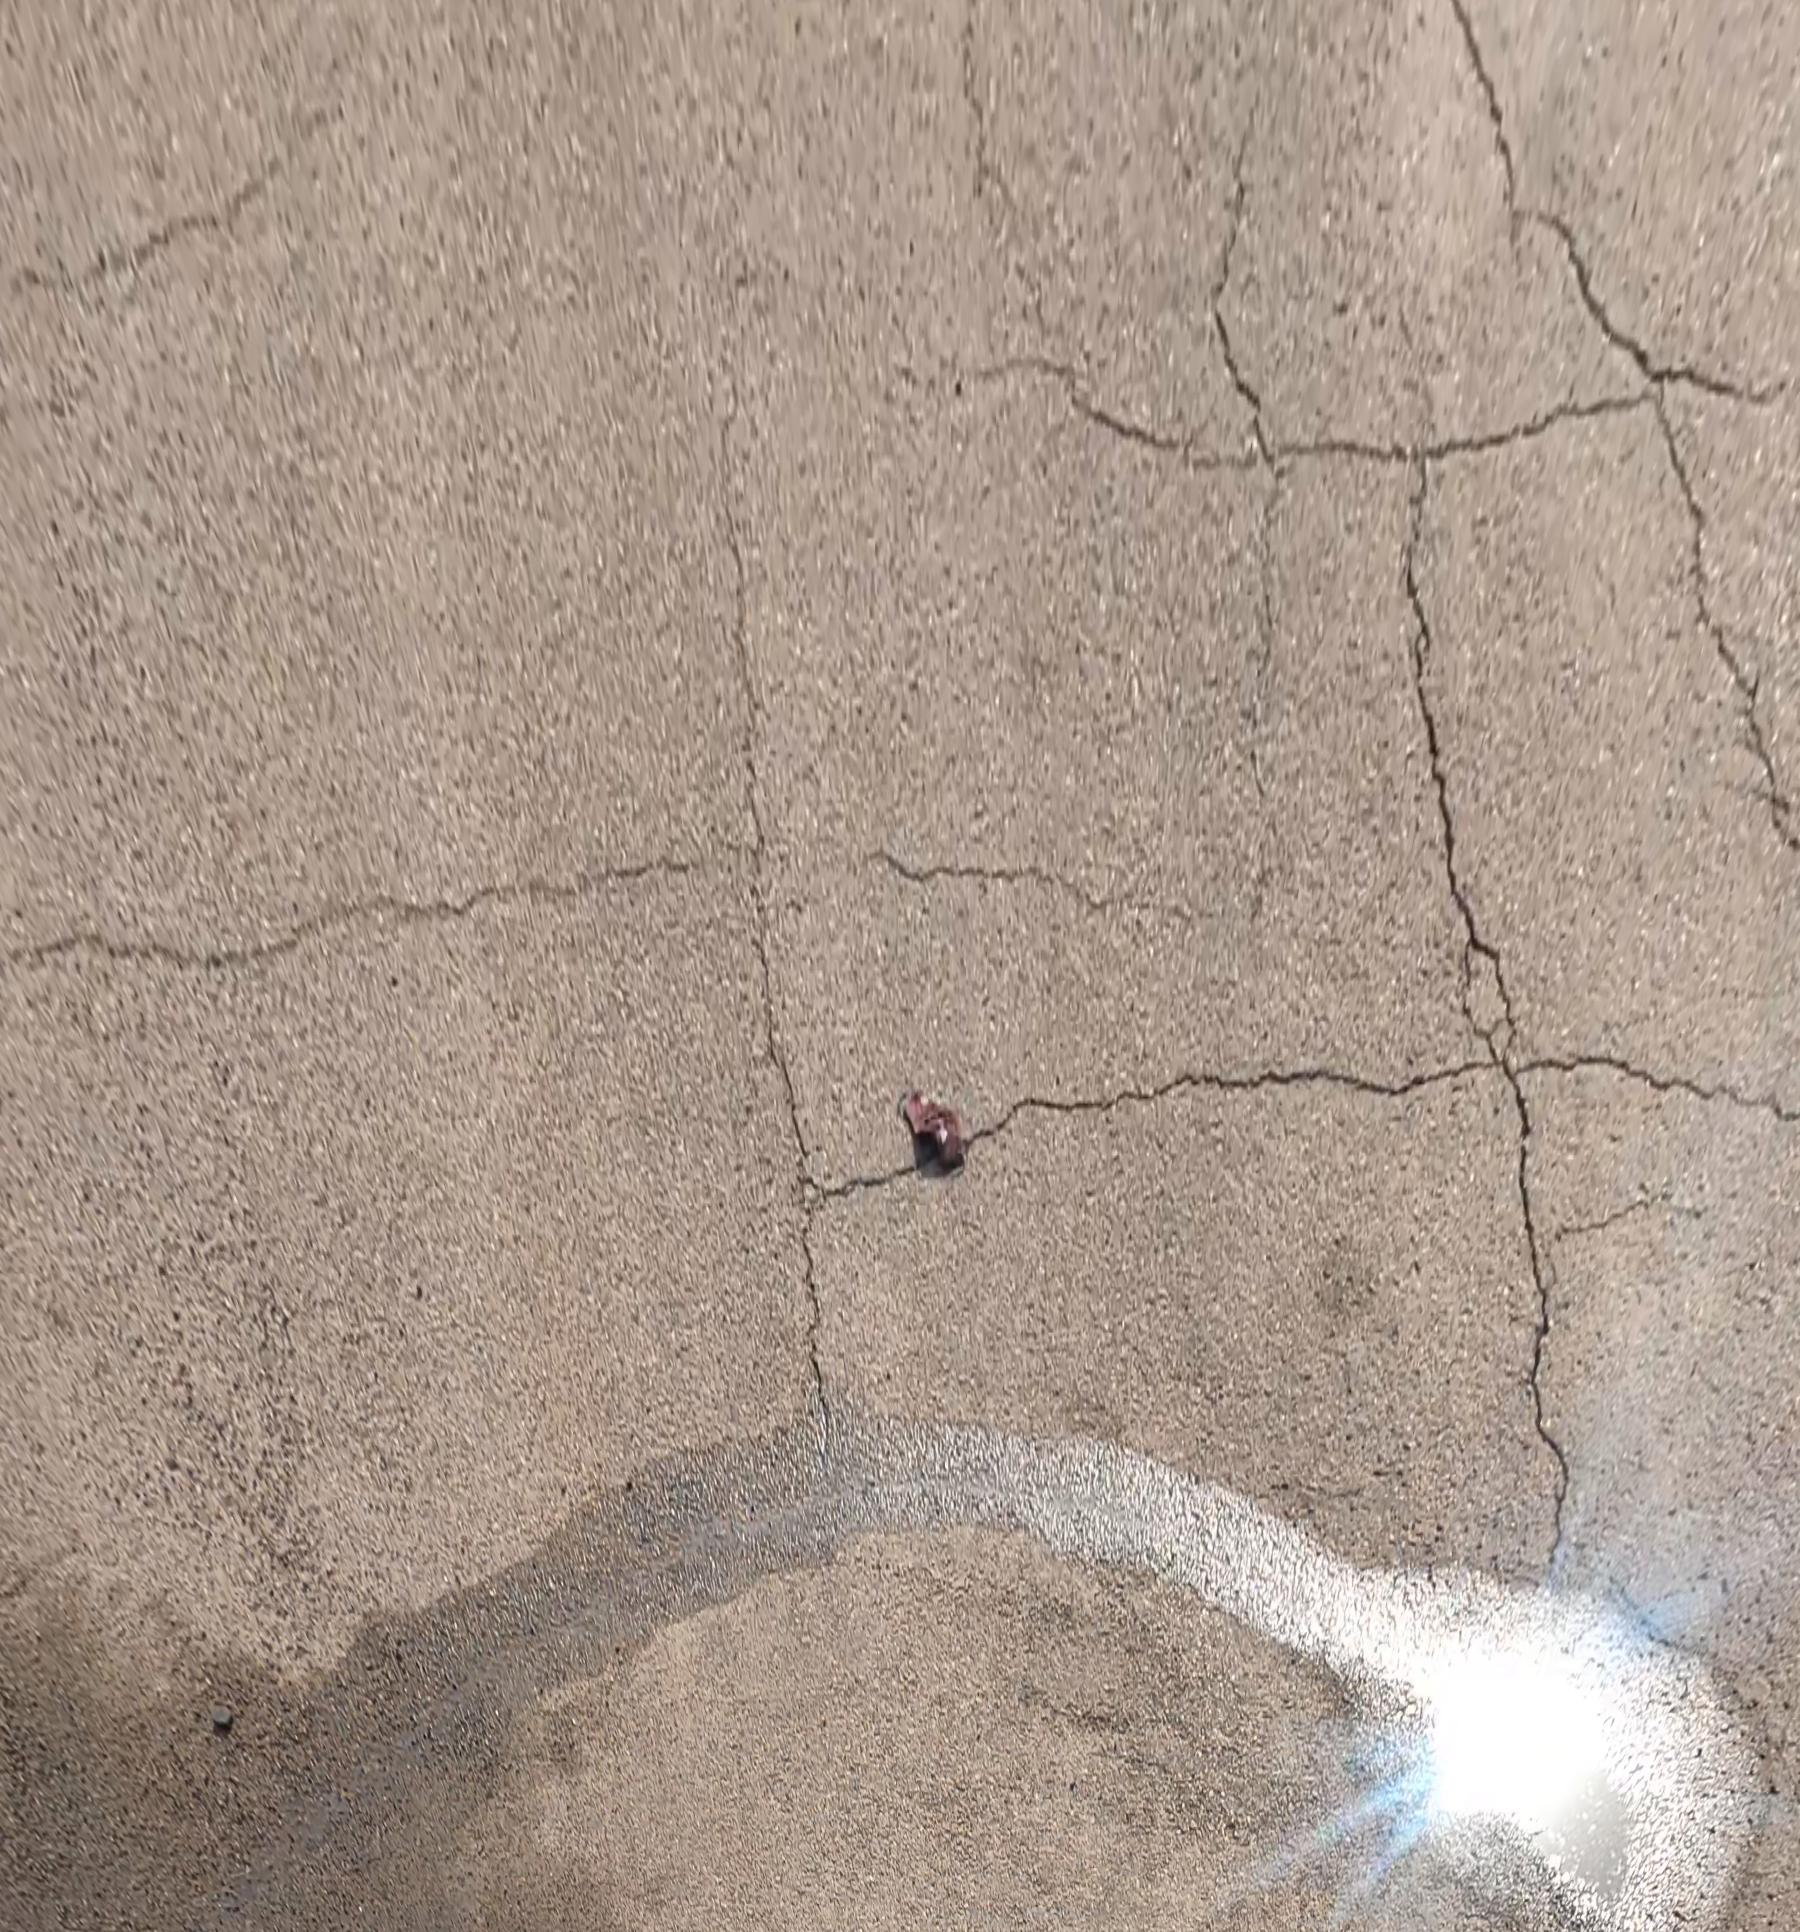pothole: (885, 1096, 963, 1176), (893, 1149, 902, 1162)
